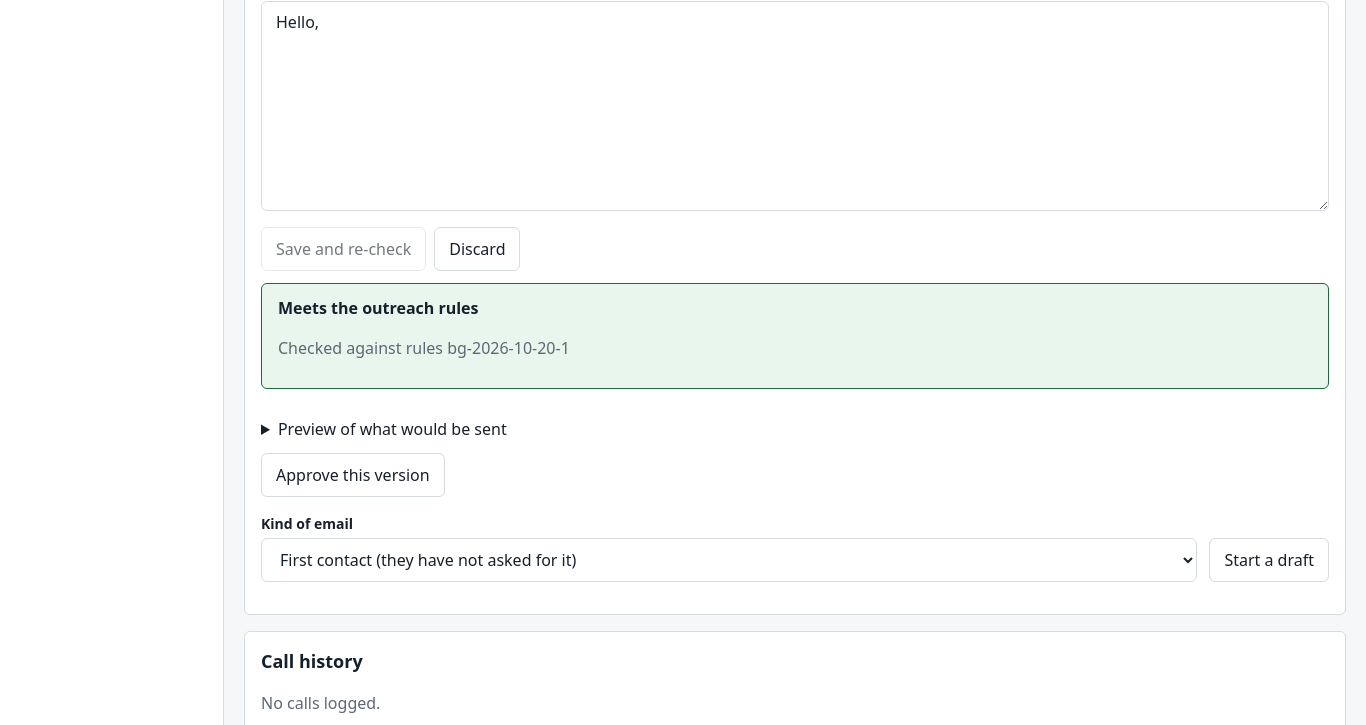
approving and sending › approves, schedules in workspace time and cancels, each as its own step
(page scrolled)
Expected: the button "Send now" is not shown
Click the button "Approve this version" at (353, 474), box [261,452,445,496]
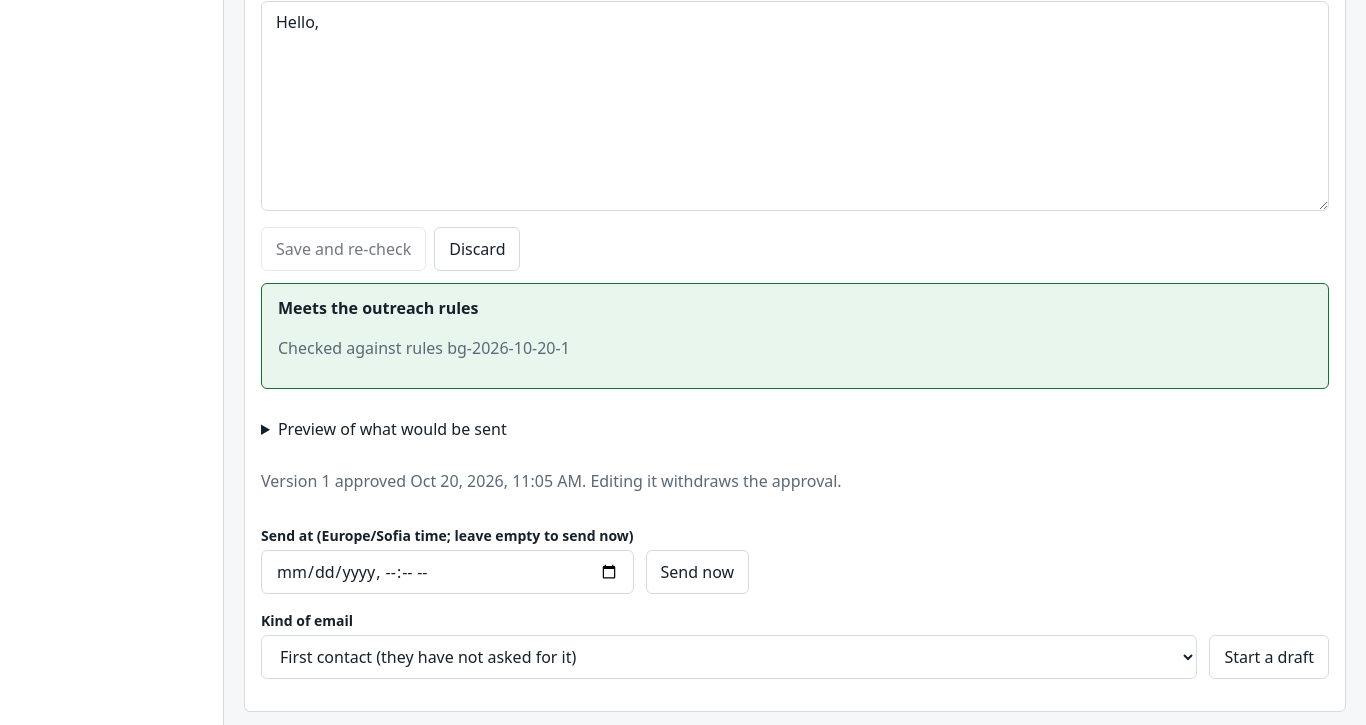
Result: the button "Send now" is shown at [646,550,749,594]
Type "2026-10-21T09:00" into the field labelled "Send at (Europe/Sofia time; leave empty to send now)" at (447, 572), box [261,550,634,594]
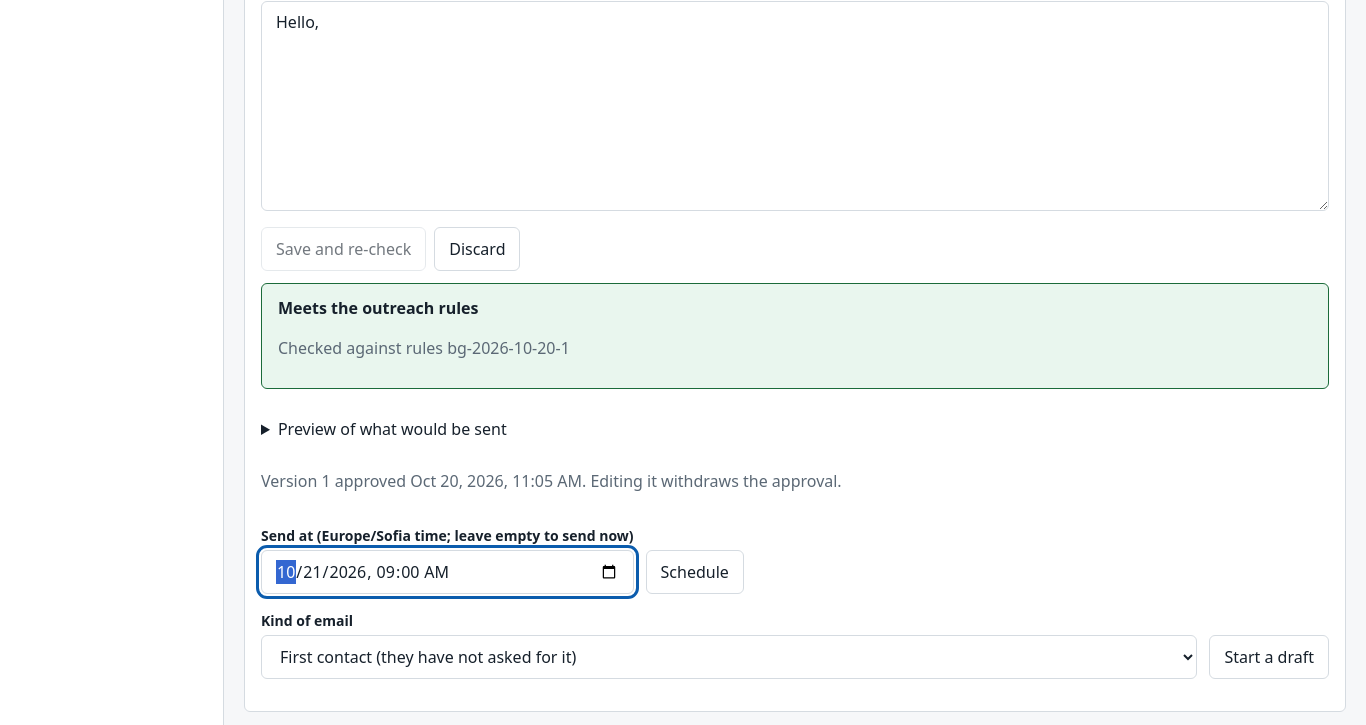
Click the button "Schedule" at (695, 572), box [646,550,744,594]
(page scrolled)
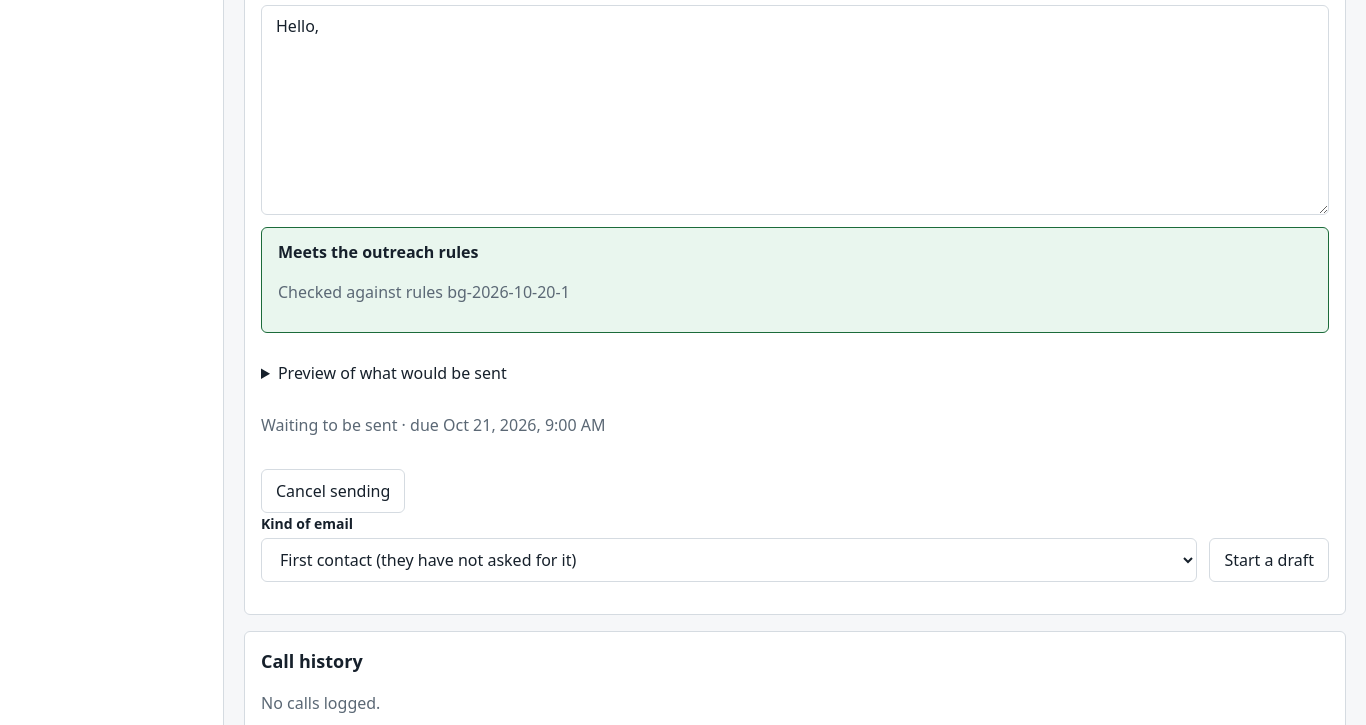
Result: the text "Waiting to be sent · due Oct 21, 2026, 9:00 AM" is shown at [261,412,606,436]
Result: the text box labelled "Message" is disabled at [261,4,1329,214]
Click the button "Cancel sending" at (333, 490), box [261,468,405,512]
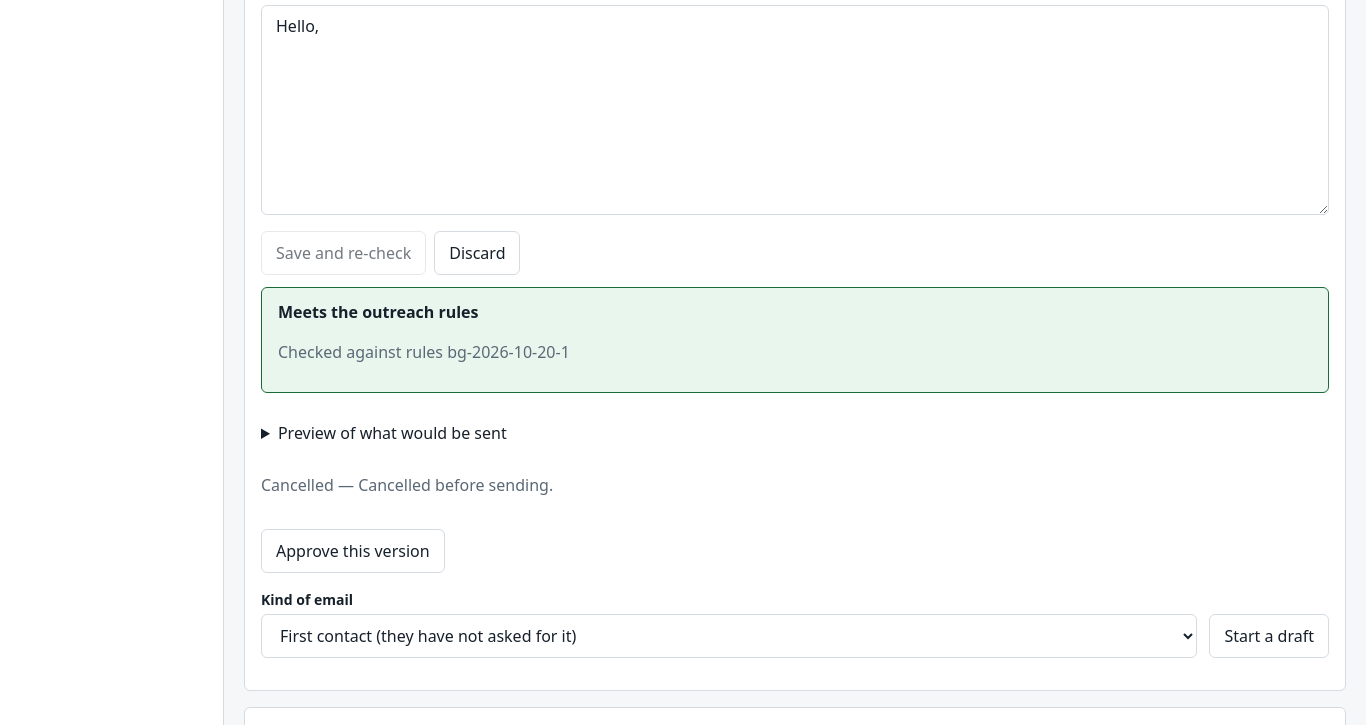
Result: the text "Cancelled — Cancelled before sending." is shown at [261,472,553,496]
